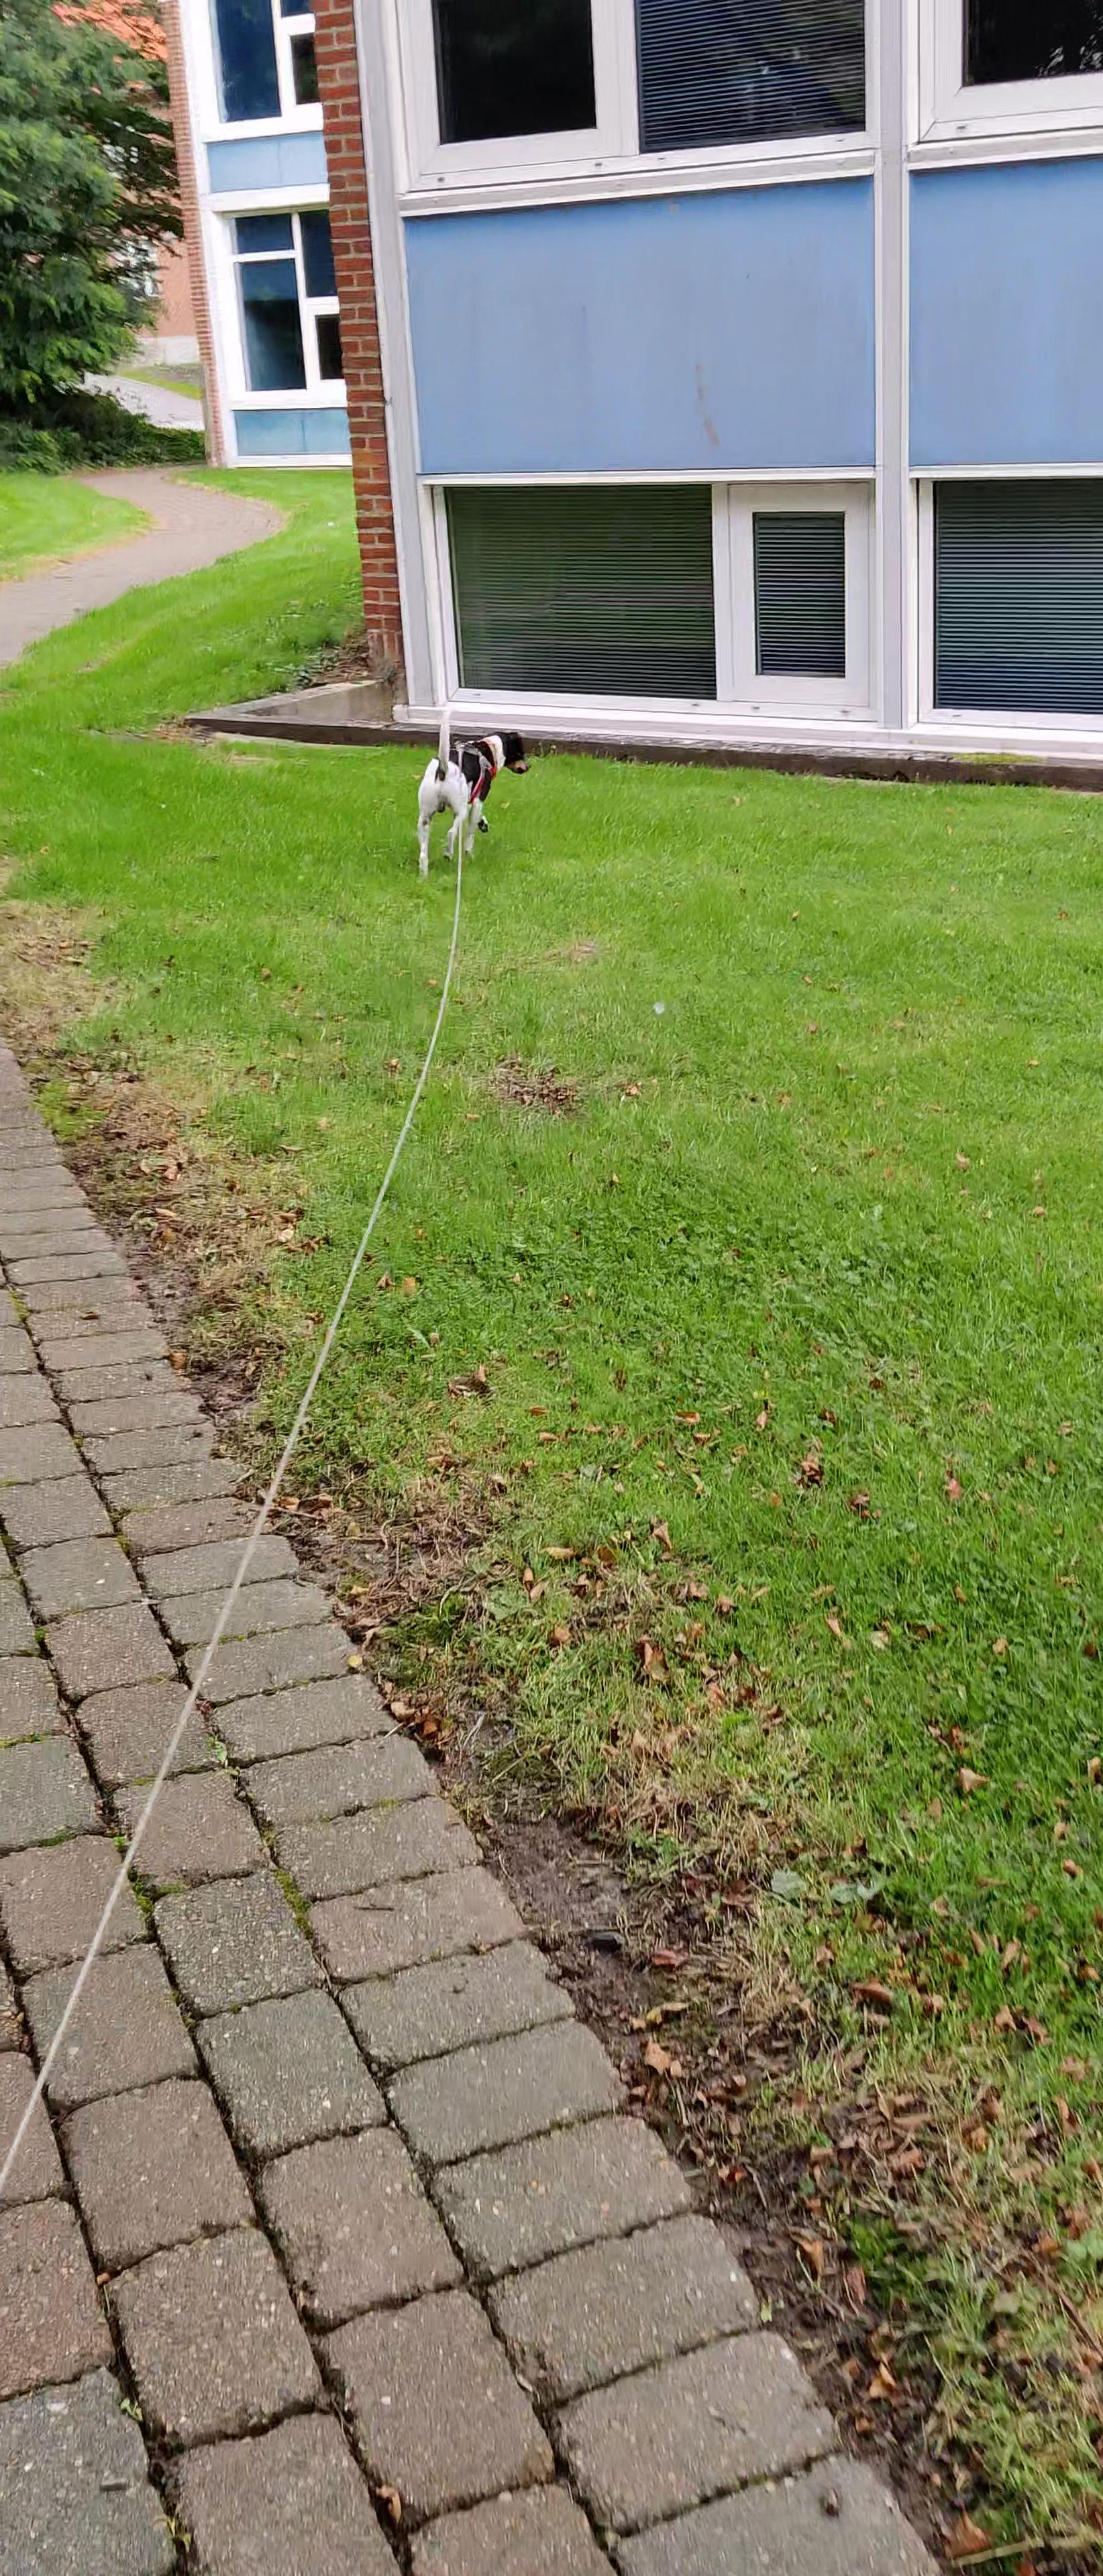Dog: (408, 698, 534, 887)
